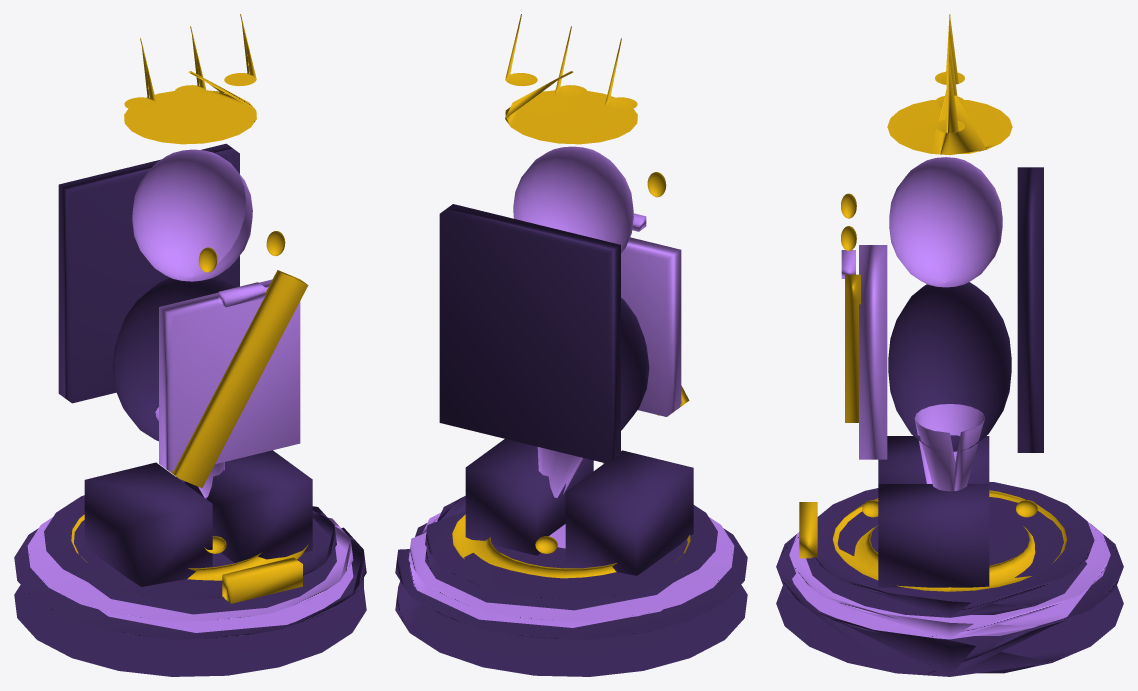
File: prom_king.glb
The picture shows the model from 3 angles, left to right: view 1: azimuth 30°, elevation 25°; view 2: azimuth 150°, elevation 25°; view 3: azimuth 270°, elevation 25°; orthographic projection.
Parts seen in each view (by area): view 1: prom_king_#3B255E, prom_king_#C084FC, prom_king_#EAB308; view 2: prom_king_#3B255E, prom_king_#C084FC, prom_king_#EAB308; view 3: prom_king_#3B255E, prom_king_#C084FC, prom_king_#EAB308.
Part boxes in pixels (x1,y1,x2,y2): prom_king_#3B255E: (14,143,366,676); prom_king_#C084FC: (27,149,353,632); prom_king_#EAB308: (71,14,308,603); prom_king_#3B255E: (395,204,747,676); prom_king_#C084FC: (408,146,734,627); prom_king_#EAB308: (452,14,690,578); prom_king_#3B255E: (776,167,1123,676); prom_king_#C084FC: (789,157,1110,639); prom_king_#EAB308: (799,14,1067,591).
Bounding box in the file's own units: 1.72 × 3.09 × 1.72.
